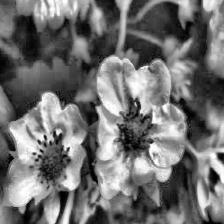Blossom Blight: (26, 130, 74, 190)
